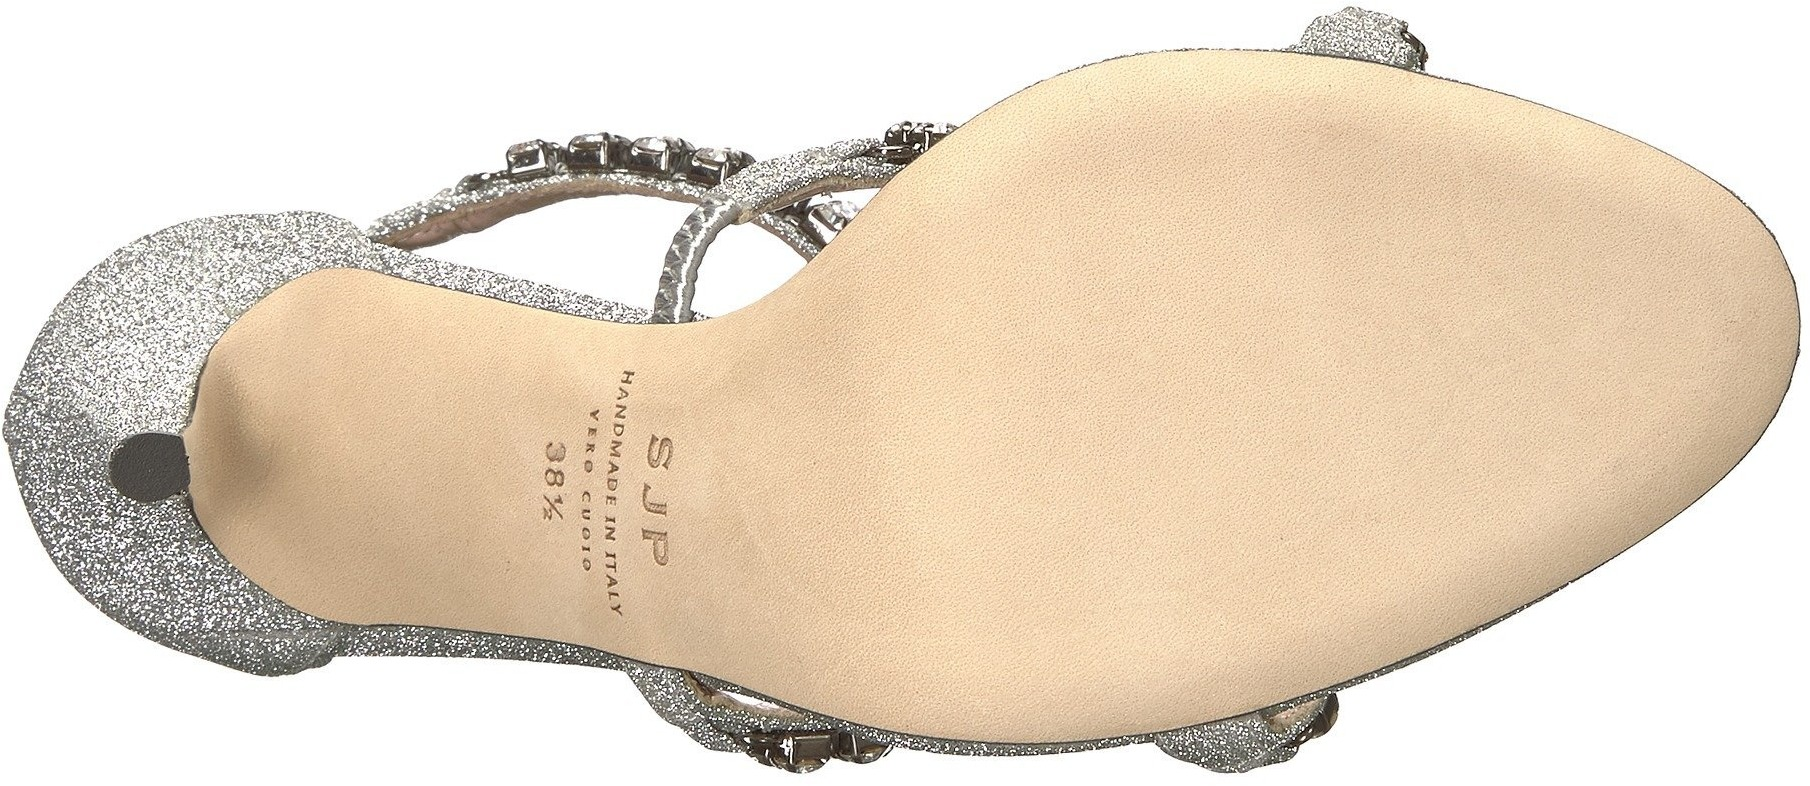other: (1172, 85, 1472, 374), (1479, 190, 1738, 458), (1181, 379, 1443, 626), (730, 330, 953, 551), (959, 342, 1175, 554), (958, 151, 1157, 337), (963, 557, 1122, 709), (801, 556, 953, 710), (128, 444, 174, 491)
